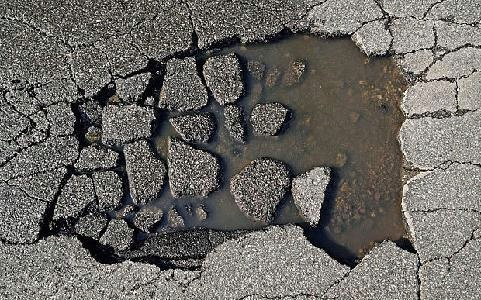pothole: (27, 23, 420, 275)
